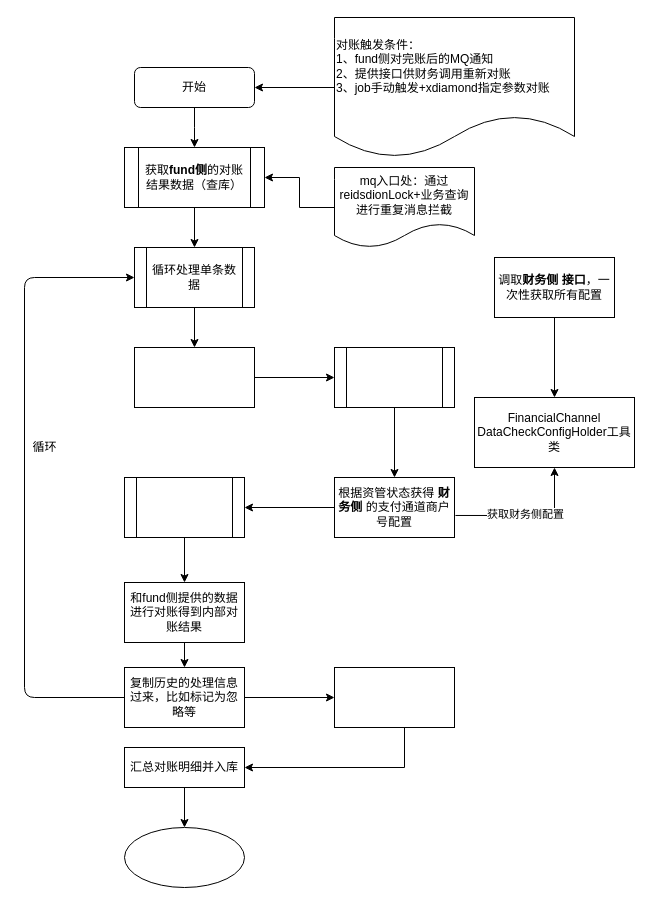
Some shapes in this 652 by 905 pixel diagram are drawn without their labels. Each missing label, with the box of its shape:
end: (124, 826, 244, 888)
判断资产状态：正常、代偿、附加订单、信托分配: (334, 346, 454, 408)
批量入库对账明细: (334, 666, 454, 728)
根据tradeId50编号拿到还款计划等信息: (134, 346, 254, 408)
计算用户还款各费用项应进入的子商户号: (124, 476, 244, 538)
